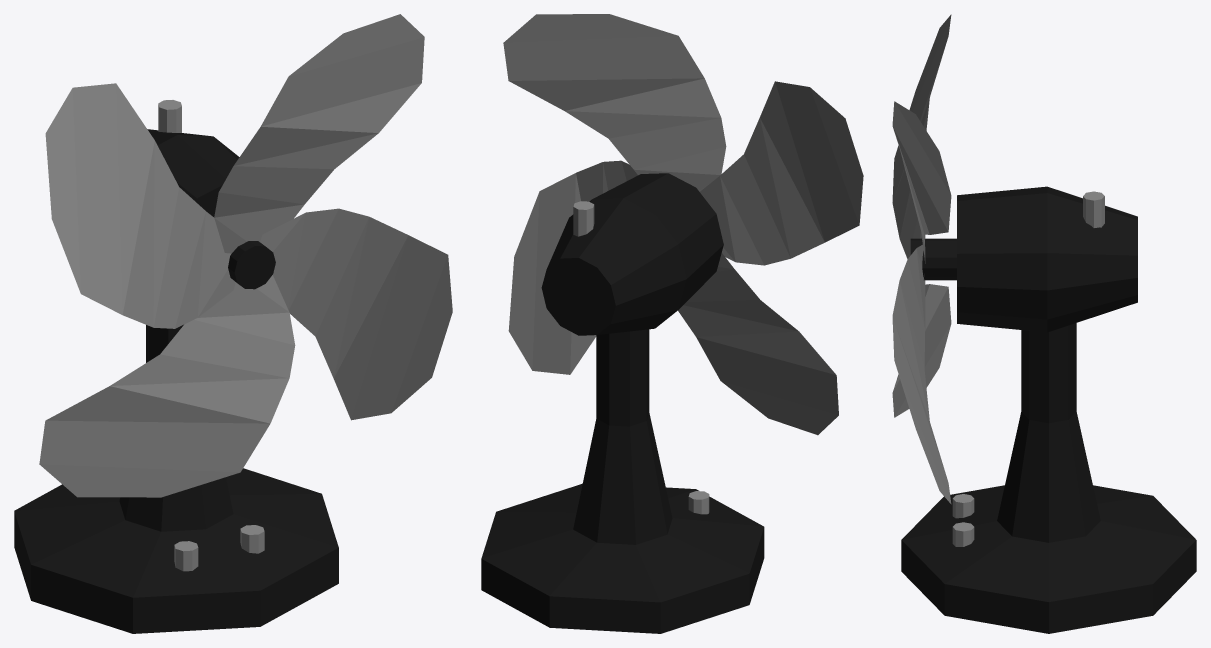
Rendered from Table Fan.fbx.
3 renders of one model, left to right at view 1: azimuth 30°, elevation 25°; view 2: azimuth 150°, elevation 25°; view 3: azimuth 270°, elevation 25°, orthographic. The views are drawn at different scales.
Visible parts, largest first — view 1: Table Fan; view 2: Table Fan; view 3: Table Fan.
Part boxes in pixels (<box>): Table Fan: <box>14,14,452,633</box>; Table Fan: <box>481,14,863,633</box>; Table Fan: <box>892,14,1196,633</box>.
Bounding box in the file's own units: 38.93 × 52.44 × 29.11.
